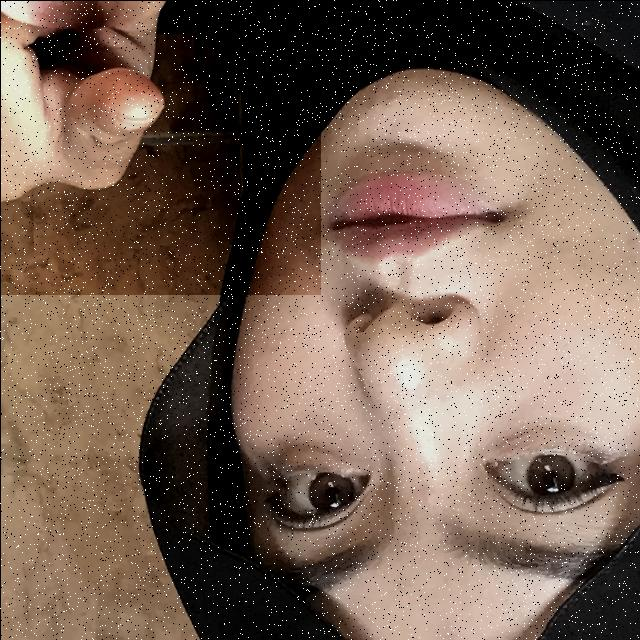kamu: (0, 0, 320, 294)
